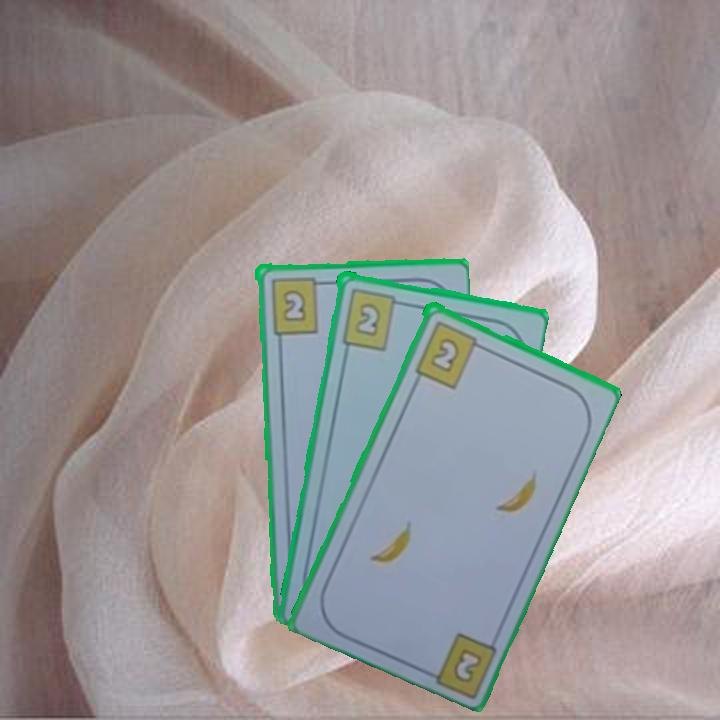2b: (411, 317, 488, 391), (337, 284, 407, 352), (267, 273, 328, 336), (452, 648, 482, 683)
